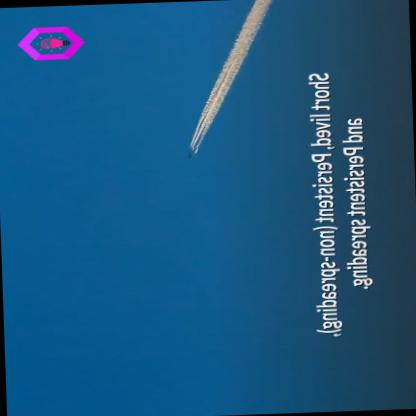plane: (177, 145, 198, 159)
